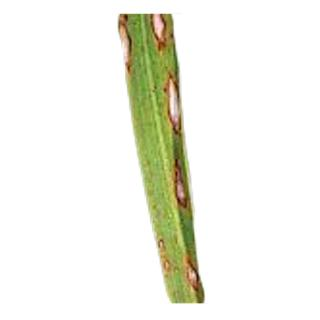Blast: (162, 153, 199, 229), (157, 69, 189, 145), (146, 230, 179, 299), (178, 234, 210, 304), (112, 14, 140, 76), (149, 13, 175, 58)
